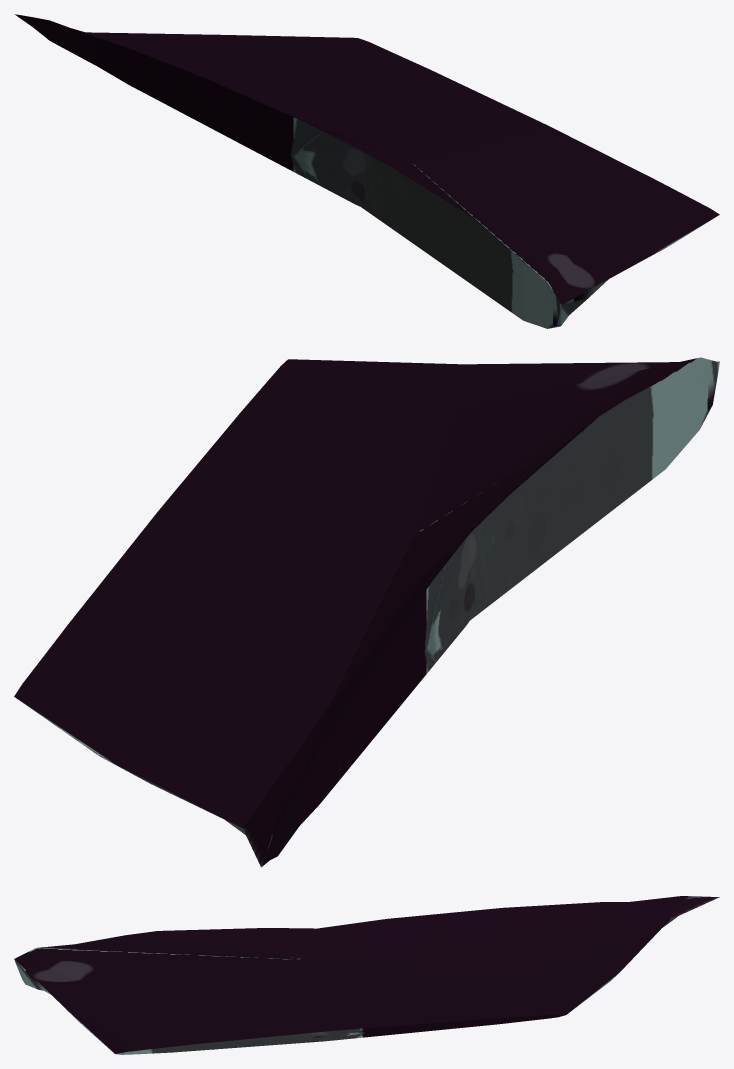
File: one.obj
3 views of the same model, one above another, from view 1: azimuth 30°, elevation 25°; view 2: azimuth 150°, elevation 25°; view 3: azimuth 270°, elevation 25° (orthographic). The views are drawn at different scales.
Parts seen in each view (by area): view 1: left-hand; view 2: left-hand; view 3: left-hand.
Boxes of the visible parts, x1,y1,x2,y2 form: left-hand: (14, 14, 719, 328); left-hand: (14, 357, 719, 867); left-hand: (14, 896, 719, 1054).
Bounding box in the file's own units: 4.99 × 0.9968 × 10.6.
Materials: 1 (1 with a texture image).
